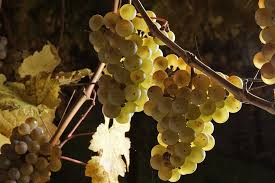grapes: (155, 52, 239, 178), (88, 7, 149, 118), (5, 124, 60, 183)
